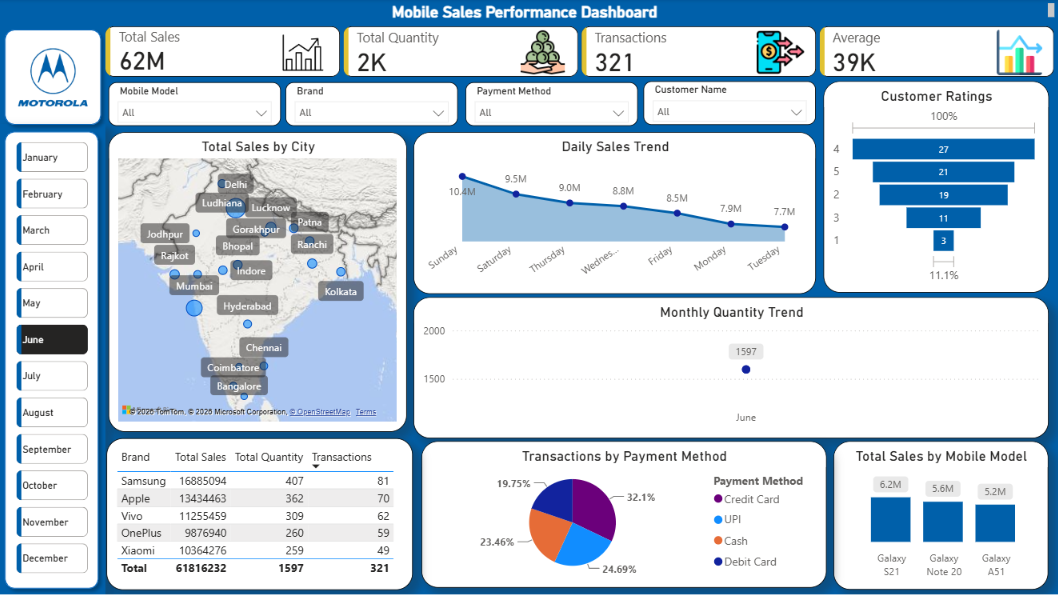

This screenshot's page, from the dashboard's own definition file:
{"tool":"powerbi","page":{"name":"Page 1","canvas":[1280,720],"ordinal":0},"visuals":[{"type":"shape","box":[0,27.7,133.9,132.7],"z":0},{"type":"shape","box":[0,151.3,130.8,569.2],"z":1000},{"type":"image","box":[14.5,51.9,105,84.5],"z":2000},{"type":"advancedSlicerVisual","fields":{"Values":["Mobile_Sales_Data.Date.Variation.Date Hierarchy.Month"]},"box":[17.9,167.9,96.2,534.6],"z":3000},{"type":"cardVisual","fields":{"Data":["Mobile_Sales_Data.Total Sales","Mobile_Sales_Data.Total Quantity","Mobile_Sales_Data.Transactions","Mobile_Sales_Data.Average"]},"box":[125.5,27.7,1154.6,71.2],"z":4000},{"type":"map","fields":{"Category":["Mobile_Sales_Data.City"],"Size":["Mobile_Sales_Data.Total Sales"]},"box":[133.3,160.3,360.3,361.5],"z":5000},{"type":"lineChart","title":"Monthly Quantity Trend","fields":{"Category":["Mobile_Sales_Data.Date.Variation.Date Hierarchy.Month","Mobile_Sales_Data.Date.Variation.Date Hierarchy.Day"],"Y":["Mobile_Sales_Data.Total Quantity"]},"box":[501.3,359,766.7,170.5],"z":6000},{"type":"clusteredColumnChart","fields":{"Y":["Mobile_Sales_Data.Total Sales"],"Category":["Mobile_Sales_Data.Mobile Model"]},"box":[1009,533.3,259,179.5],"z":7000},{"type":"pieChart","fields":{"Category":["Mobile_Sales_Data.Payment Method"],"Y":["Mobile_Sales_Data.Transactions"]},"box":[511.5,533.3,488.5,176.9],"z":8000},{"type":"funnel","title":"Customer Ratings","fields":{"Category":["Mobile_Sales_Data.Customer Ratings"],"Y":["CountNonNull(Mobile_Sales_Data.Customer Ratings)"]},"box":[996.2,98.7,271.8,255.1],"z":9000},{"type":"areaChart","title":"Daily Sales Trend","fields":{"Y":["Mobile_Sales_Data.Total Sales"],"Category":["Mobile_Sales_Data.Day Name"]},"box":[501.3,160.3,485.9,194.9],"z":10000},{"type":"tableEx","fields":{"Values":["Mobile_Sales_Data.Brand","Mobile_Sales_Data.Total Sales","Mobile_Sales_Data.Total Quantity","Mobile_Sales_Data.Transactions"]},"box":[132.1,529.5,369.2,183.3],"z":11000},{"type":"slicer","fields":{"Values":["Mobile_Sales_Data.Customer Name"]},"box":[779.5,98.7,207.7,52.6],"z":12000},{"type":"slicer","fields":{"Values":["Mobile_Sales_Data.Payment Method"]},"box":[564.1,100,207.7,52.6],"z":13000},{"type":"slicer","fields":{"Values":["Mobile_Sales_Data.Brand"]},"box":[347.4,100,207.7,52.6],"z":14000},{"type":"slicer","fields":{"Values":["Mobile_Sales_Data.Mobile Model"]},"box":[133.3,100,207.7,52.6],"z":15000},{"type":"textbox","box":[0,0,1280,27.7],"z":15001}]}

Visuals, with their boxes in screenshot pixels (x1, y1, x2, y2), scaled from the page's 1280x720 canvas onto the 1058x595 screenshot:
shape: rect(0, 23, 111, 133)
shape: rect(0, 125, 108, 594)
image: rect(12, 43, 99, 113)
advancedSlicerVisual - Mobile_Sales_Data.Date.Variation.Date Hierarchy.Month: rect(15, 139, 94, 581)
cardVisual - Mobile_Sales_Data.Total Sales x Mobile_Sales_Data.Total Quantity: rect(104, 23, 1057, 82)
map - Mobile_Sales_Data.City x Mobile_Sales_Data.Total Sales: rect(110, 132, 408, 431)
"Monthly Quantity Trend" lineChart: rect(414, 297, 1048, 438)
clusteredColumnChart - Mobile_Sales_Data.Total Sales x Mobile_Sales_Data.Mobile Model: rect(834, 441, 1048, 589)
pieChart - Mobile_Sales_Data.Payment Method x Mobile_Sales_Data.Transactions: rect(423, 441, 827, 587)
"Customer Ratings" funnel: rect(823, 82, 1048, 292)
"Daily Sales Trend" areaChart: rect(414, 132, 816, 294)
tableEx - Mobile_Sales_Data.Brand x Mobile_Sales_Data.Total Sales: rect(109, 438, 414, 589)
slicer - Mobile_Sales_Data.Customer Name: rect(644, 82, 816, 125)
slicer - Mobile_Sales_Data.Payment Method: rect(466, 83, 638, 126)
slicer - Mobile_Sales_Data.Brand: rect(287, 83, 459, 126)
slicer - Mobile_Sales_Data.Mobile Model: rect(110, 83, 282, 126)
textbox: rect(0, 0, 1057, 23)
